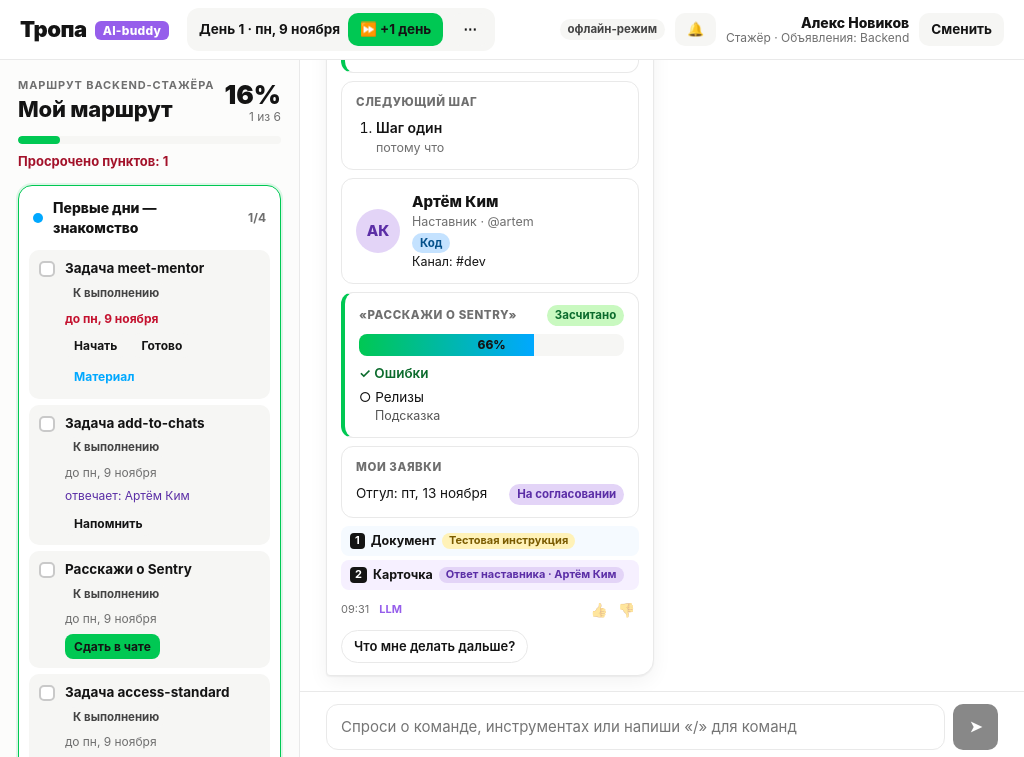
App › [UI-13] logout returns to the login screen
(page scrolled)
Click the button "Сменить" at (962, 30), box [919,13,1004,46]
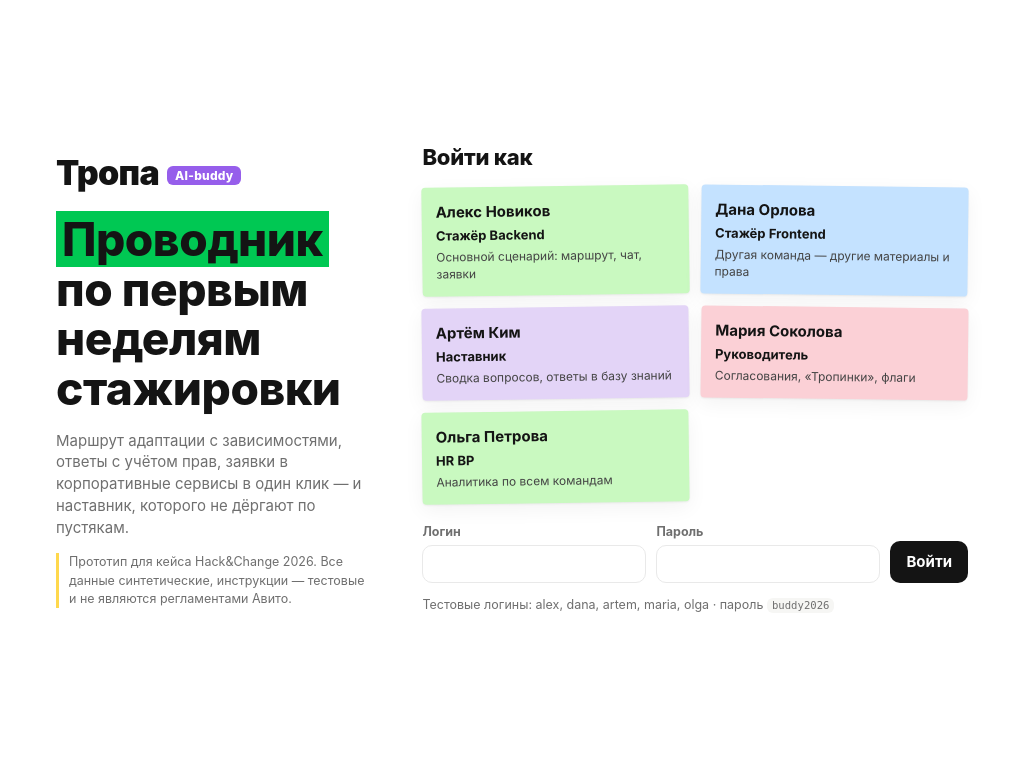
Result: the heading "Войти как" is shown at [422,144,532,170]
Result: the heading "Мой маршрут" is gone
